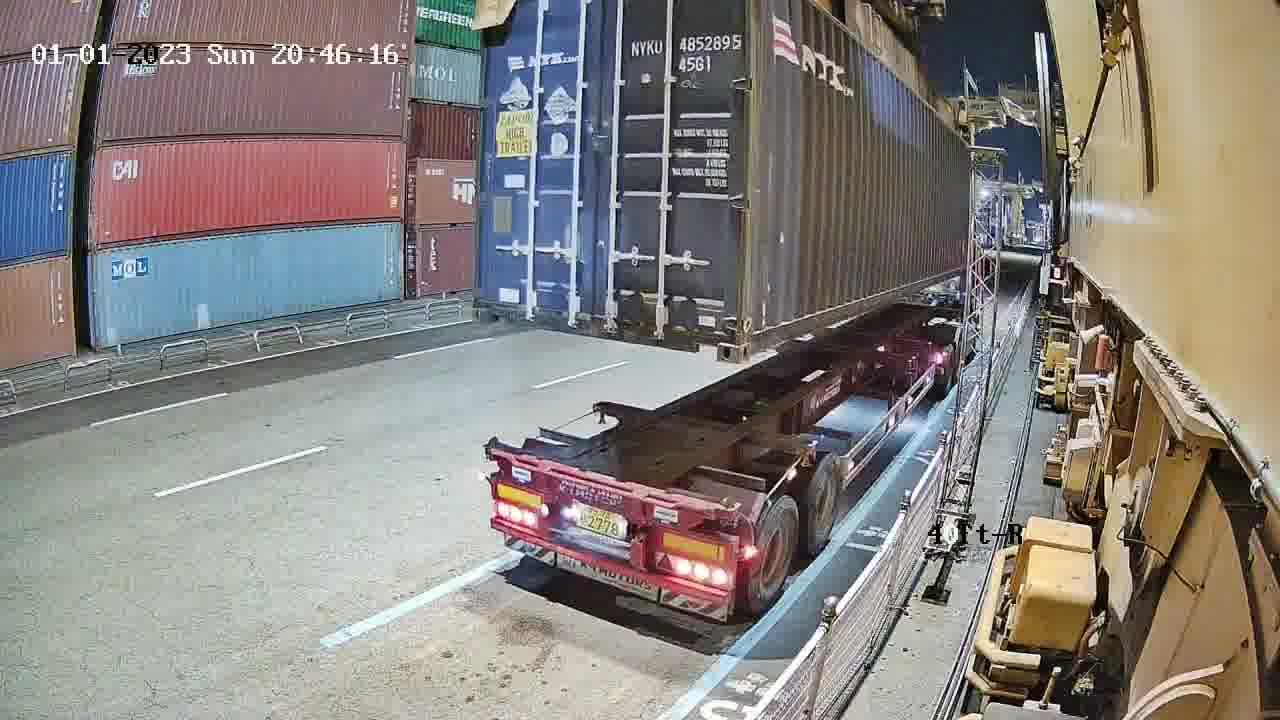Chassis: (488, 448, 719, 531)
Cone: (719, 492, 740, 535), (481, 432, 501, 465)
Hole_L: (739, 312, 770, 362), (470, 286, 510, 323)
Hole_R: (692, 320, 740, 362)
Tire: (747, 499, 801, 610), (802, 456, 844, 555)
